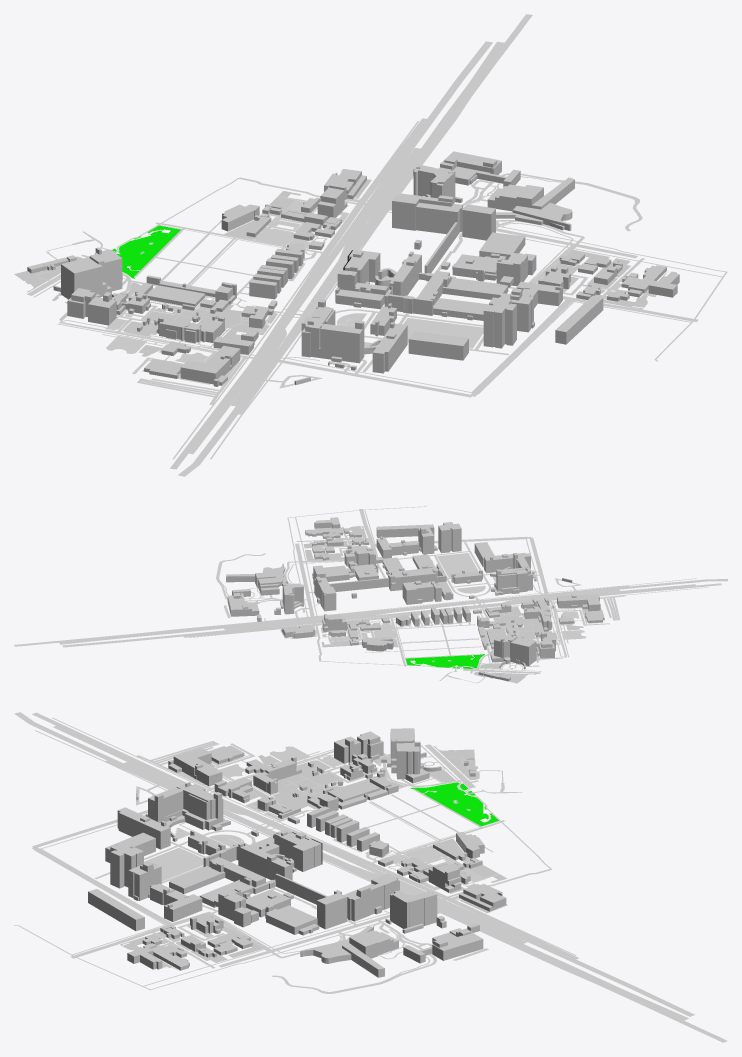
Rendered from 自適應期末0604.glb.
3 renders of one model, top to bottom at view 1: azimuth 30°, elevation 25°; view 2: azimuth 150°, elevation 25°; view 3: azimuth 270°, elevation 25°, orthographic. The views are drawn at different scales.
Parts seen in each view (by area): view 1: building (×28), Road (×9), grass; view 2: building (×26), Road (×10), grass; view 3: building (×34), Road (×14), grass (×2).
Boxes of the visible parts, bbox=[...] form: building (×28): bbox=[14, 151, 603, 384]; Road (×9): bbox=[178, 14, 532, 476]; grass: bbox=[117, 225, 180, 278]; building (×26): bbox=[227, 522, 600, 683]; Road (×10): bbox=[14, 543, 727, 647]; grass: bbox=[406, 654, 484, 668]; building (×34): bbox=[88, 728, 507, 977]; Road (×14): bbox=[14, 712, 727, 1042]; grass (×2): bbox=[411, 782, 498, 826].
Size of the model in its own units: 0.9579 by 0.0441 by 0.8739.
